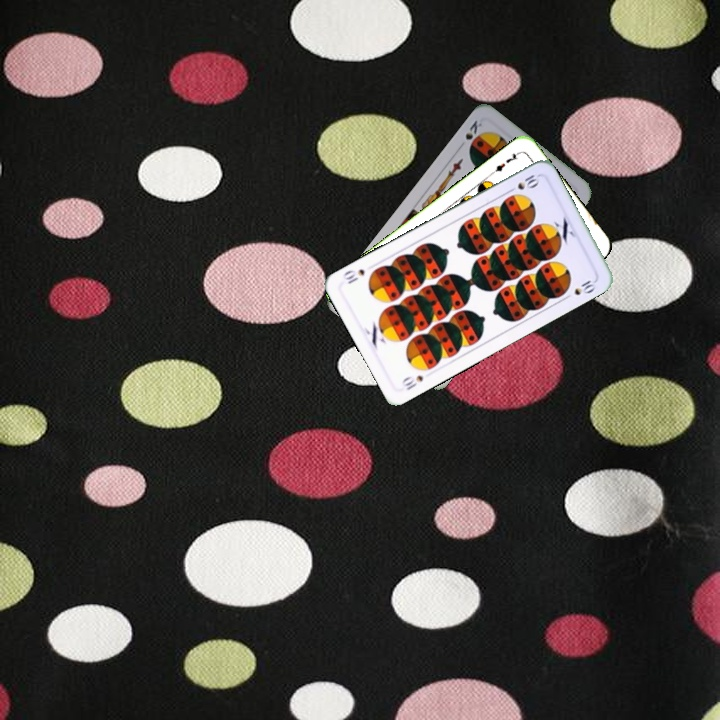E7: (488, 147, 523, 176)
S10: (503, 170, 542, 195), (397, 371, 426, 393)
SK: (461, 116, 485, 142)
